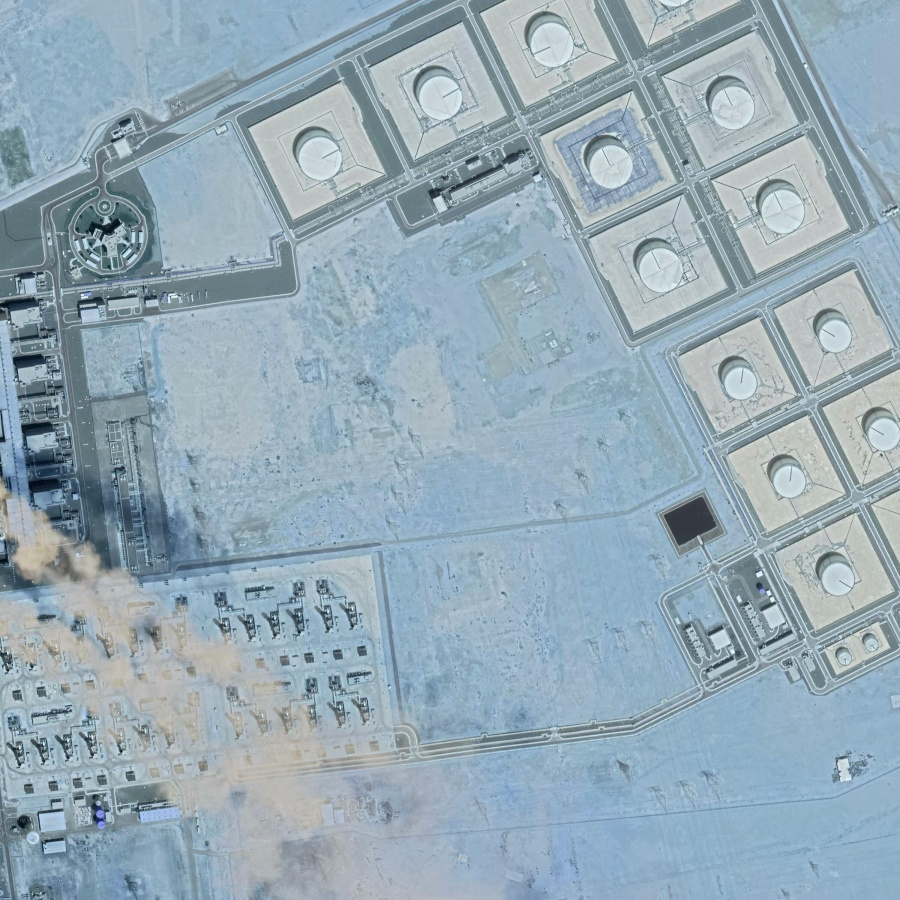PowerPlant: (294, 15, 807, 342)
